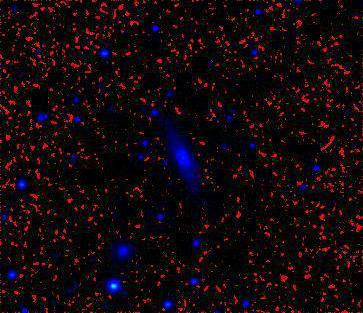star: (9, 292, 39, 313)
